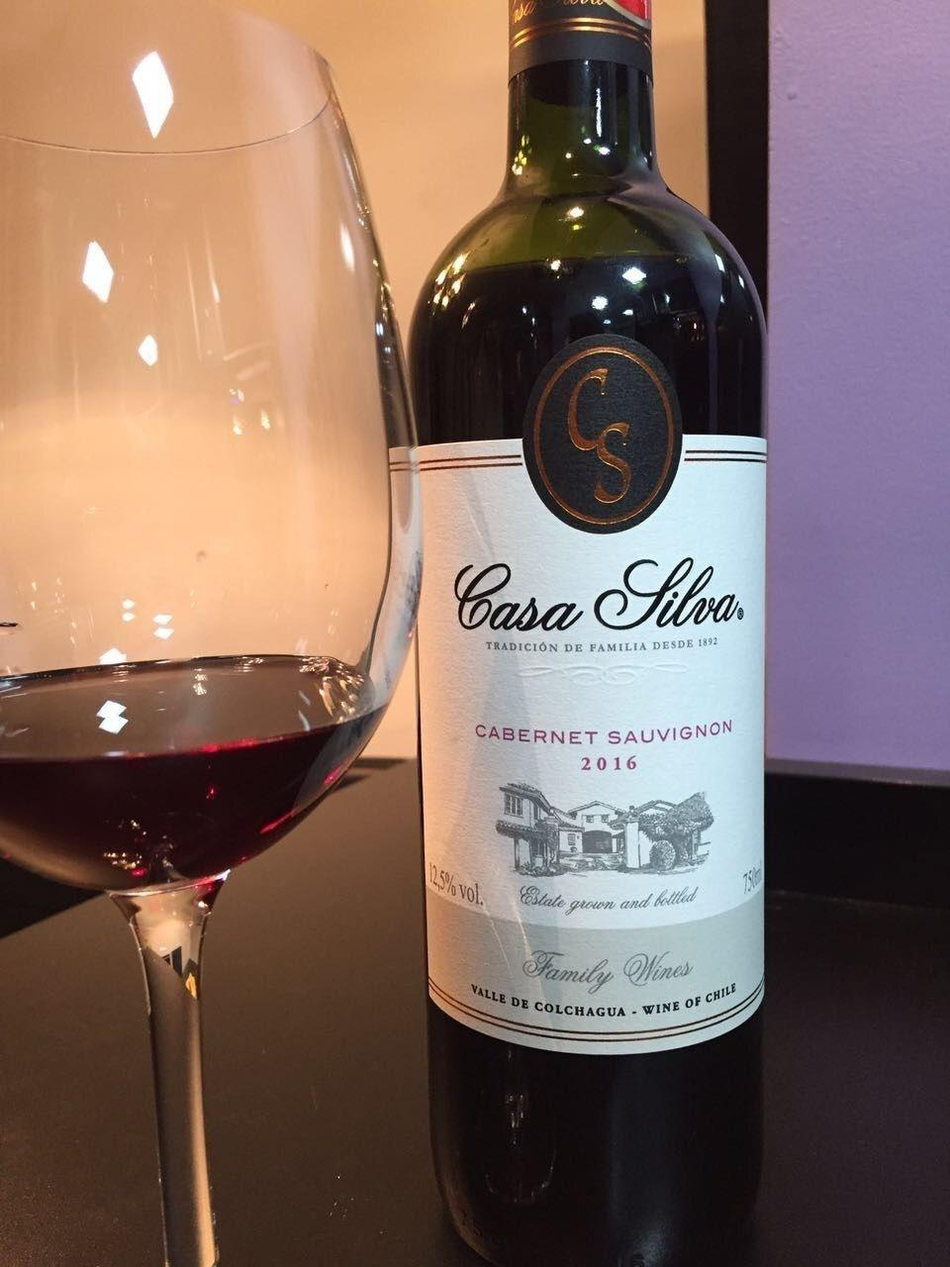bottle-glass: (388, 1, 785, 1267)
glass-wine: (0, 0, 421, 1267)
